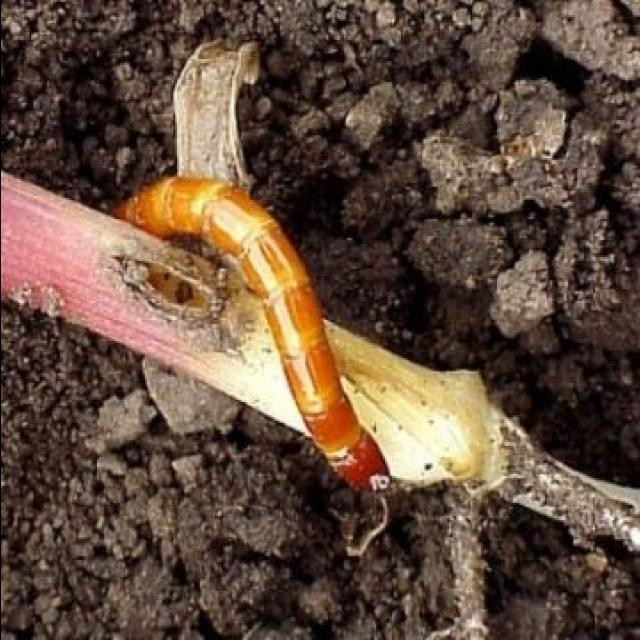wireworm: (101, 158, 395, 499)
